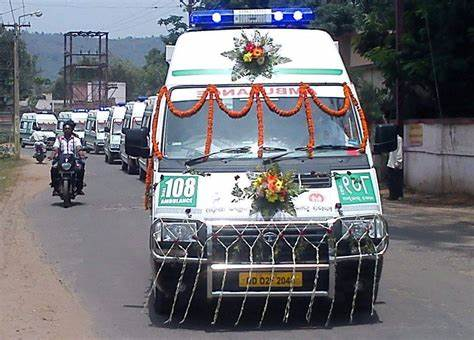ambulance: (124, 3, 396, 324)
